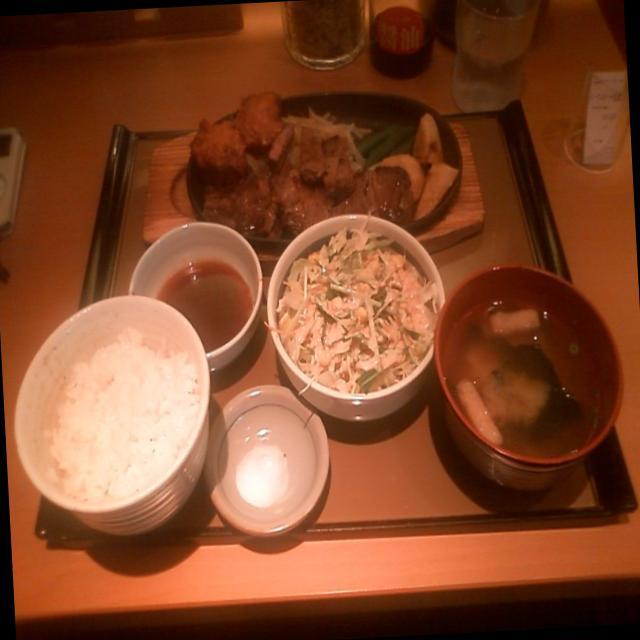Rice: (7, 278, 220, 544)
